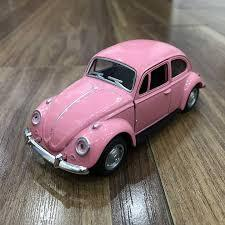volkswagen: (24, 34, 205, 183)
